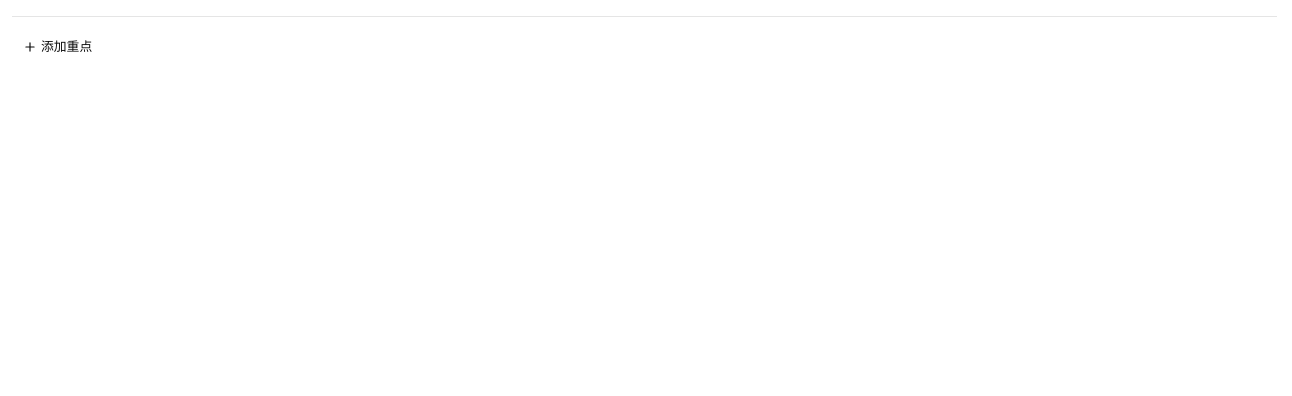
shows only a small add action when a day has no highlights
This screenshot has width=1292, height=396.
Expected: the text "本日重点" is not shown
Click the button "添加重点" at coordinates (58, 47), box [12, 33, 103, 61]
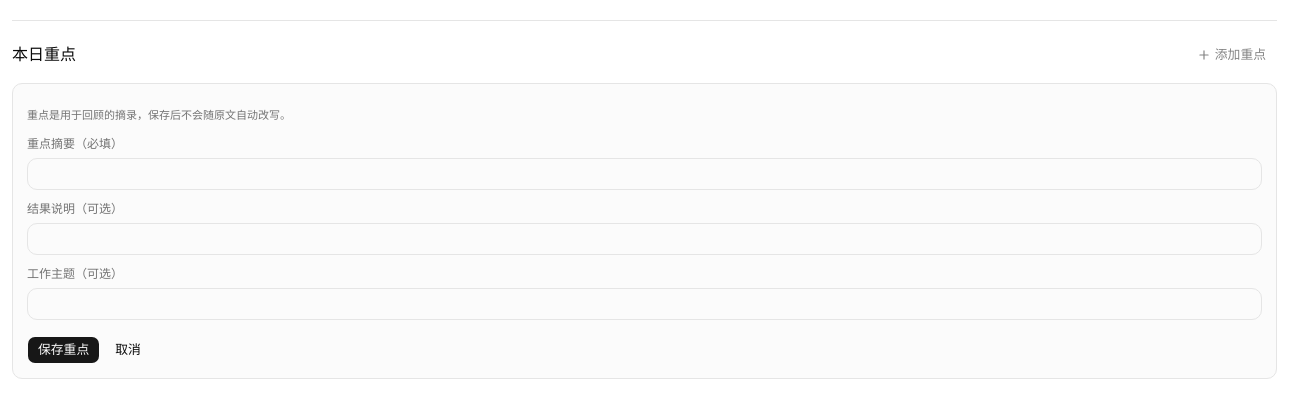
Now the element named "收录重点" is shown
